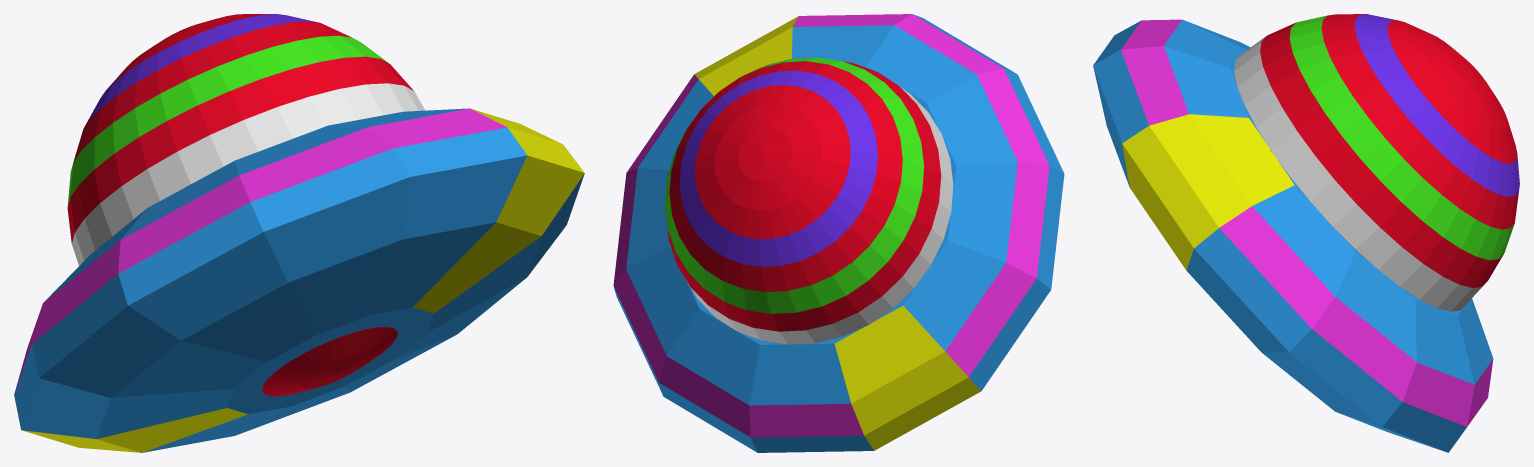
The model's file is ufo.gltf.
3 renders of one model, left to right at view 1: azimuth 30°, elevation 25°; view 2: azimuth 150°, elevation 25°; view 3: azimuth 270°, elevation 25°, orthographic. The views are drawn at different scales.
Parts seen in each view (by area): view 1: Circle, Sphere; view 2: Circle, Sphere; view 3: Circle, Sphere.
Part boxes in pixels (left/top/right/bottom): Circle: left=14, top=108, right=584, bottom=452; Sphere: left=67, top=14, right=425, bottom=396; Circle: left=613, top=14, right=1064, bottom=452; Sphere: left=665, top=57, right=953, bottom=344; Circle: left=1093, top=19, right=1493, bottom=452; Sphere: left=1234, top=14, right=1519, bottom=311.
Bounding box in the file's own units: 7.39 × 5.87 × 5.79.
